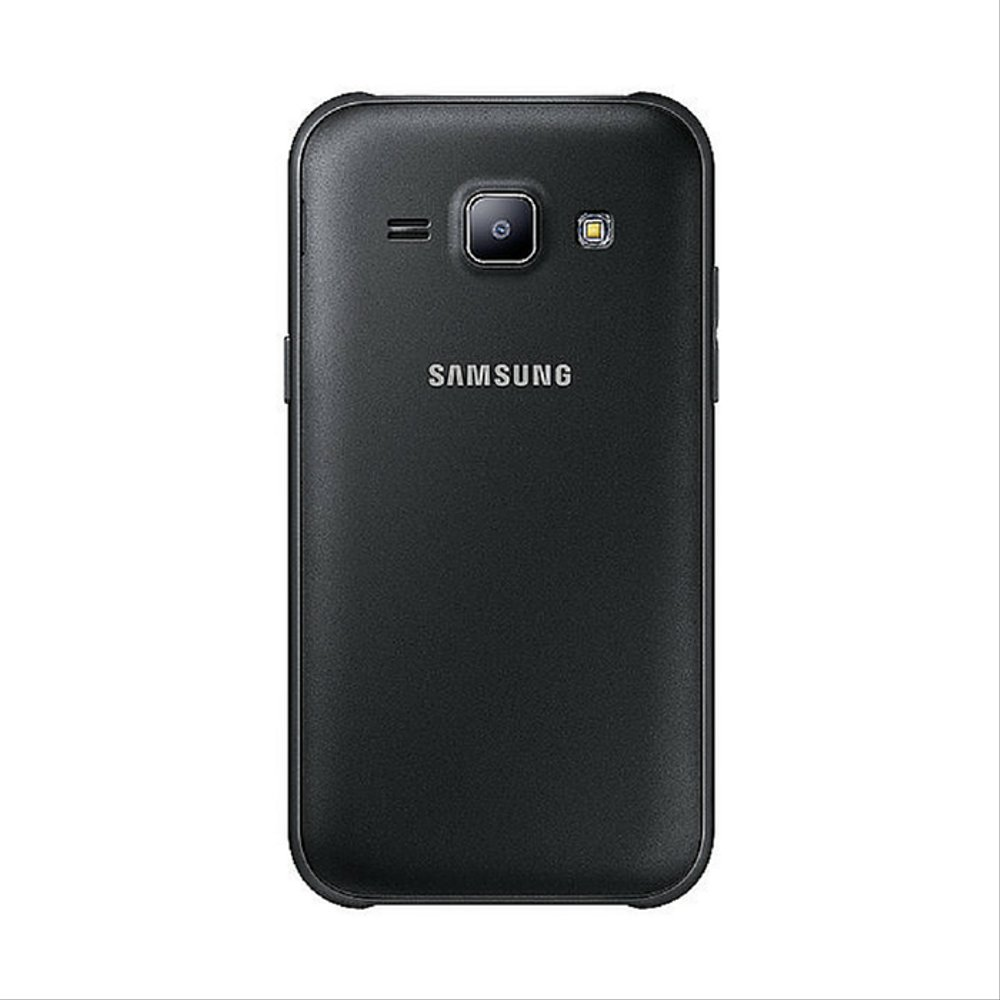Handphone: (274, 78, 728, 921)
